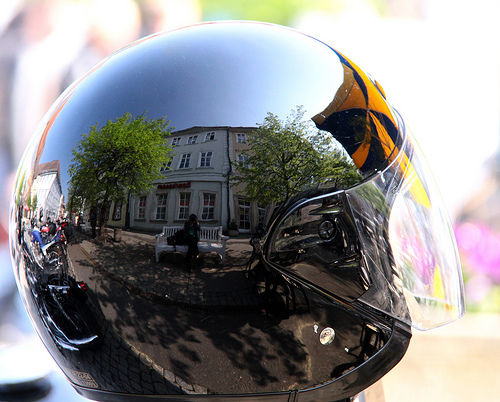helmet: (25, 43, 432, 380)
